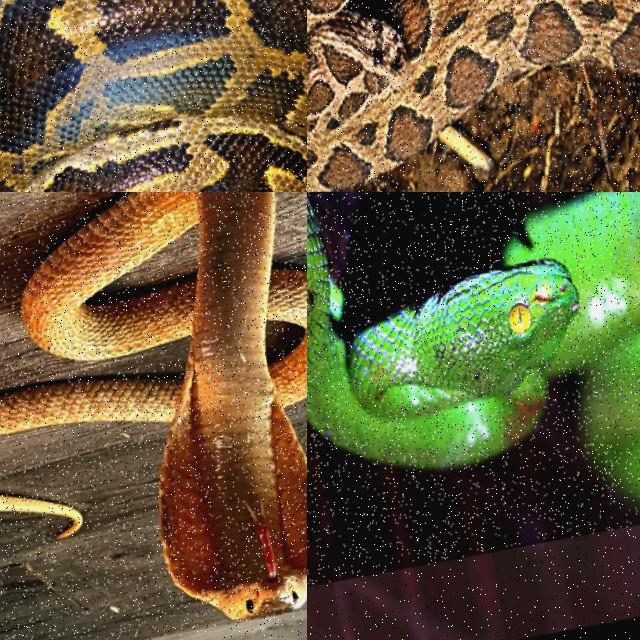Daboia siamensis: (307, 0, 639, 191)
Naja kaouthia: (0, 192, 306, 619)
Python bivittatus: (0, 0, 306, 191)
Trimeresurus macrops: (307, 192, 639, 499)
